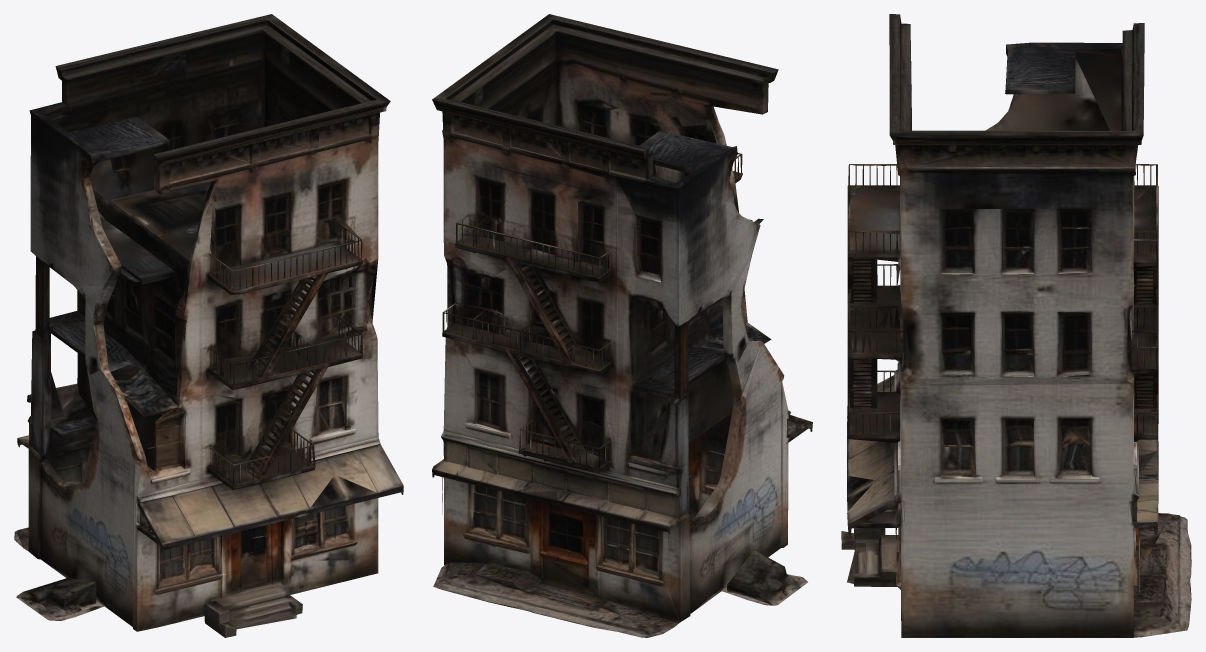
Rendered from uhs1.glb.
3 renders of one model, left to right at view 1: azimuth 30°, elevation 25°; view 2: azimuth 150°, elevation 25°; view 3: azimuth 270°, elevation 25°, orthographic. The views are drawn at different scales.
Visible parts, largest first — view 1: material; view 2: material; view 3: material.
Boxes of the visible parts, left/top/right/bottom form: material: left=14, top=14, right=403, bottom=637; material: left=432, top=14, right=812, bottom=637; material: left=841, top=14, right=1191, bottom=637.
Size of the model in its own units: 0.6091 by 0.9109 by 0.5709.
1 material, 1 textured.
